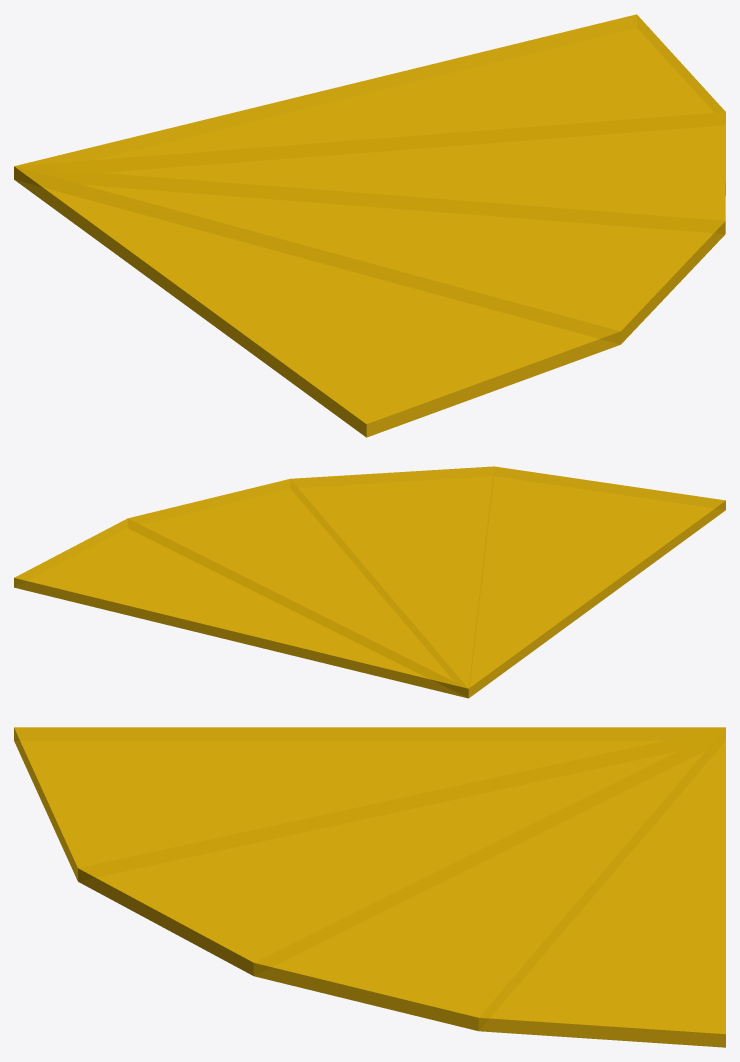
The model's file is SM_Bld_Floor_Curved_Large_01_Collision.fbx.
3 renders of one model, top to bottom at view 1: azimuth 30°, elevation 25°; view 2: azimuth 150°, elevation 25°; view 3: azimuth 270°, elevation 25°, orthographic. The views are drawn at different scales.
Parts seen in each view (by area): view 1: SM_Bld_Floor_Curved_Large_01_Collision; view 2: SM_Bld_Floor_Curved_Large_01_Collision; view 3: SM_Bld_Floor_Curved_Large_01_Collision.
Boxes of the visible parts, box(x1,y1,x2,y2) form: SM_Bld_Floor_Curved_Large_01_Collision: box(14, 14, 725, 437); SM_Bld_Floor_Curved_Large_01_Collision: box(14, 466, 725, 698); SM_Bld_Floor_Curved_Large_01_Collision: box(14, 727, 725, 1047).
Size of the model in its own units: 509 by 10.44 by 499.
